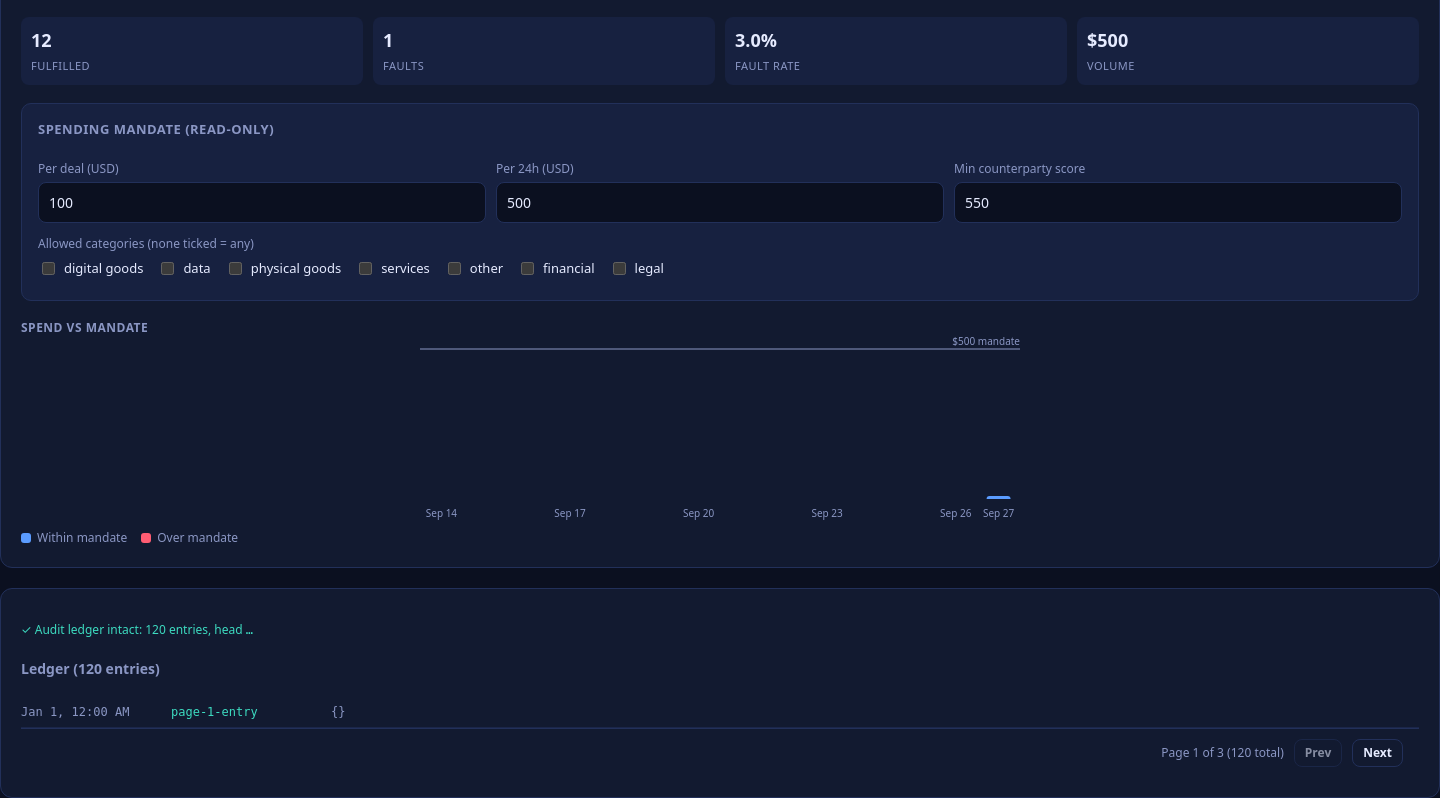
Test: AgentDetailView › paginates the ledger, fetching the requested page from the server
(page scrolled)
Expected: the text "page-1-entry" is shown, top-left (171, 705), bottom-right (258, 719)
Expected: the text "Page 1 of 3 (120 total)" is shown, top-left (1161, 744), bottom-right (1284, 762)
Click the button "Next". click: [1378, 753]
box: top-left (1352, 739), bottom-right (1403, 767)
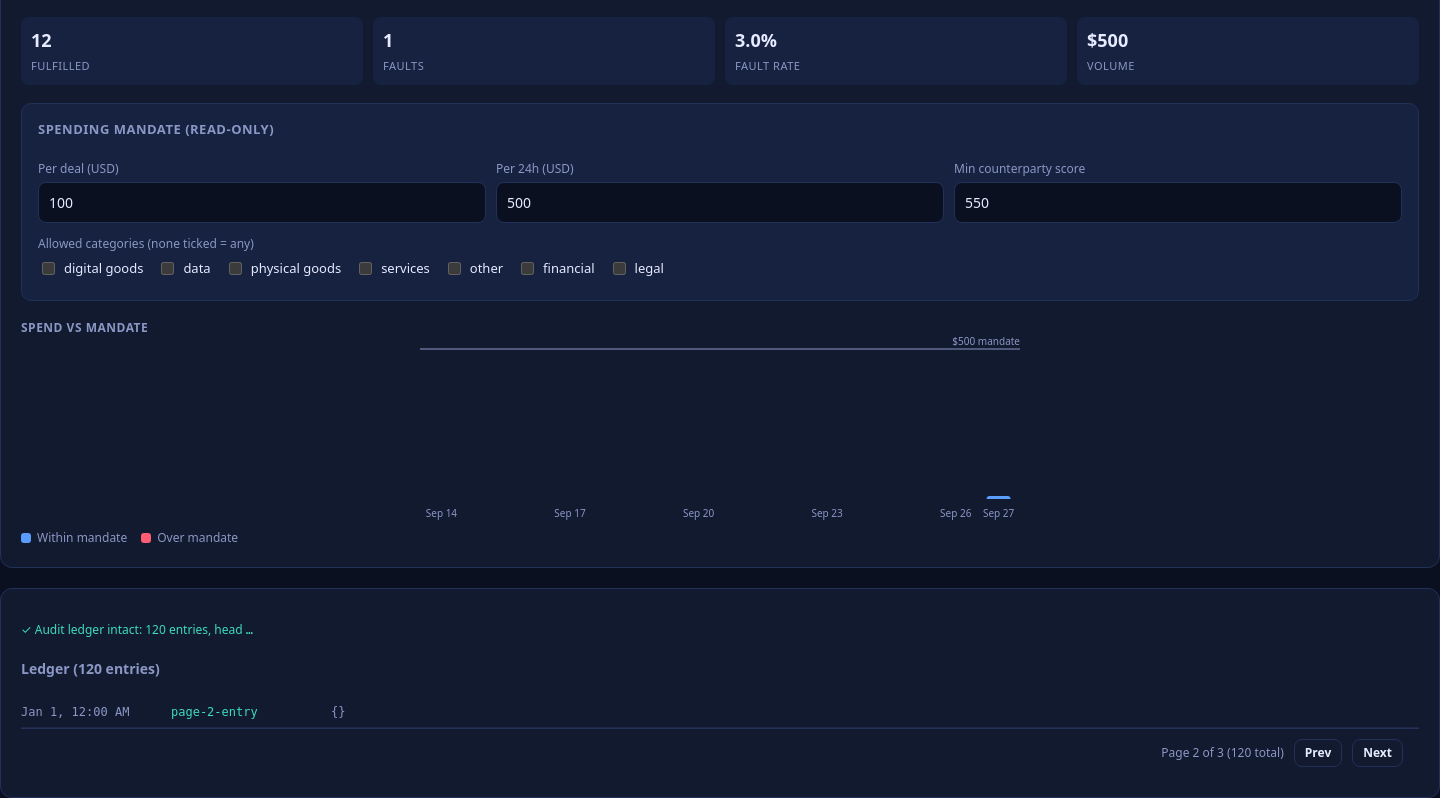
Result: the text "page-2-entry" is shown at top-left (171, 705), bottom-right (258, 719)
